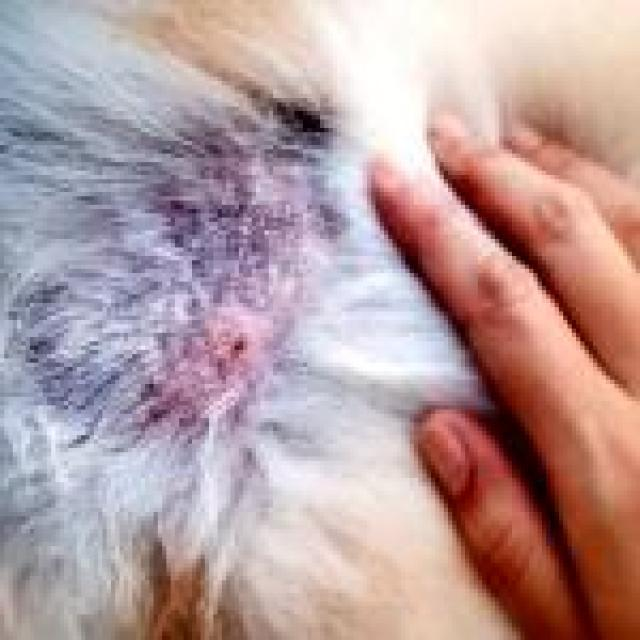mange: (2, 86, 344, 456)
